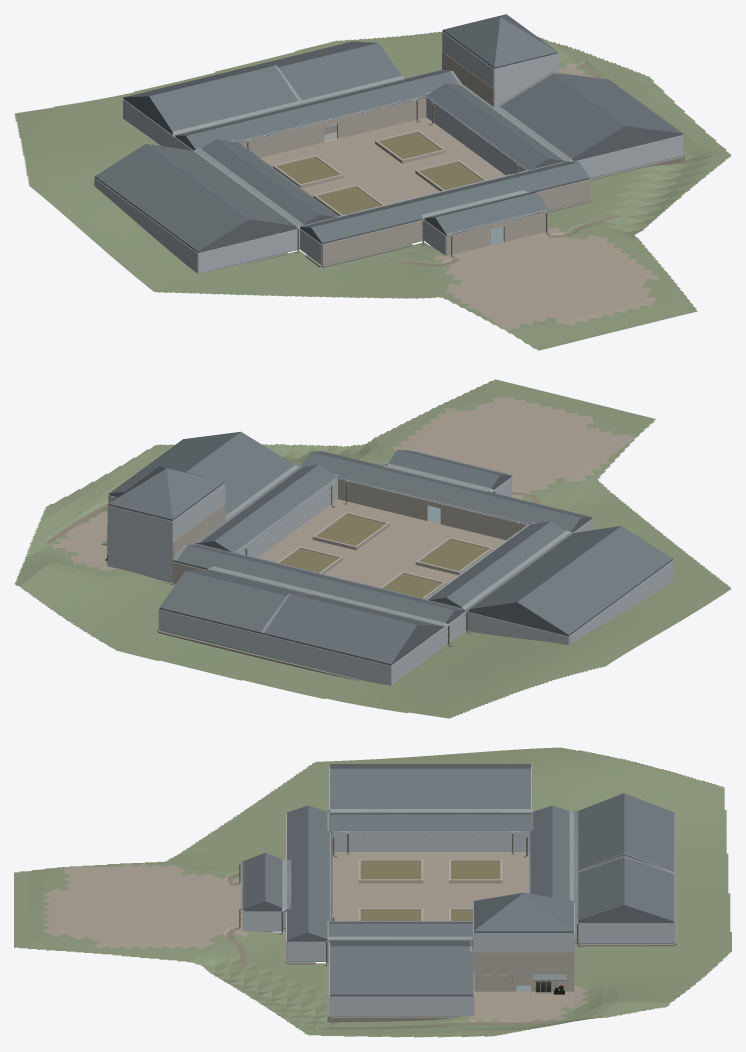
File: monastery-with-ground-drainage.glb
3 renders of one model, top to bottom at view 1: azimuth 30°, elevation 25°; view 2: azimuth 150°, elevation 25°; view 3: azimuth 270°, elevation 25°, orthographic. The views are drawn at different scales.
Parts seen in each view (by area): view 1: WLD-10 graded exterior ground, dormitory roof west, refectory roof west, archive roof south, south-cloister roof south, north-cloister roof south, vestry roof south, dormitory roof east, east-cloister roof west, refectory roof east, west-cloister roof west, Monastery shared gatehouse and south cloister wall inner gat (+32 smaller); view 2: WLD-10 graded exterior ground, dormitory roof west, archive roof north, south-cloister roof north, vestry roof north, north-cloister roof north, refectory roof west, dormitory roof east, east-cloister roof west, Wall archive N, Wall tower-base N, west-cloister roof west (+33 smaller); view 3: WLD-10 graded exterior ground, dormitory roof east, refectory roof east, Wall west E, west-cloister roof east, archive roof north, archive roof south, Wall refectory E, south-cloister roof north, south-cloister roof south, vestry roof north, vestry roof south (+27 smaller).
Part boxes in pixels (x1,y1,x2,y2): WLD-10 graded exterior ground: [14, 31, 731, 350]; dormitory roof west: [95, 144, 248, 252]; refectory roof west: [500, 73, 625, 159]; archive roof south: [149, 65, 297, 132]; south-cloister roof south: [311, 162, 589, 244]; north-cloister roof south: [186, 71, 459, 149]; vestry roof south: [278, 43, 401, 100]; dormitory roof east: [146, 143, 296, 227]; east-cloister roof west: [427, 83, 548, 170]; refectory roof east: [554, 73, 682, 134]; west-cloister roof west: [201, 139, 319, 225]; Monastery shared gatehouse and south cloister wall inner gat: [322, 220, 422, 264]; WLD-10 graded exterior ground: [14, 379, 731, 718]; dormitory roof west: [517, 526, 672, 636]; archive roof north: [262, 594, 417, 665]; south-cloister roof north: [300, 452, 580, 532]; vestry roof north: [159, 571, 286, 633]; north-cloister roof north: [172, 545, 454, 626]; refectory roof west: [186, 432, 294, 515]; dormitory roof east: [469, 526, 620, 610]; east-cloister roof west: [214, 465, 337, 552]; Wall archive N: [262, 634, 391, 685]; Wall tower-base N: [108, 526, 172, 581]; west-cloister roof west: [446, 521, 565, 608]; WLD-10 graded exterior ground: [14, 747, 731, 1037]; dormitory roof east: [330, 768, 530, 808]; refectory roof east: [330, 946, 473, 995]; Wall west E: [332, 832, 528, 851]; west-cloister roof east: [330, 814, 530, 832]; archive roof north: [624, 793, 674, 872]; archive roof south: [578, 793, 624, 870]; Wall refectory E: [330, 996, 473, 1015]; south-cloister roof north: [308, 805, 329, 941]; south-cloister roof south: [287, 805, 308, 941]; vestry roof north: [624, 857, 674, 922]; vestry roof south: [578, 857, 624, 921].
Size of the model in its own units: 92 by 16 by 100.
174 materials, 133 textured.
